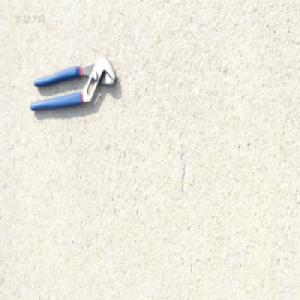Pliers: (29, 52, 119, 110)
